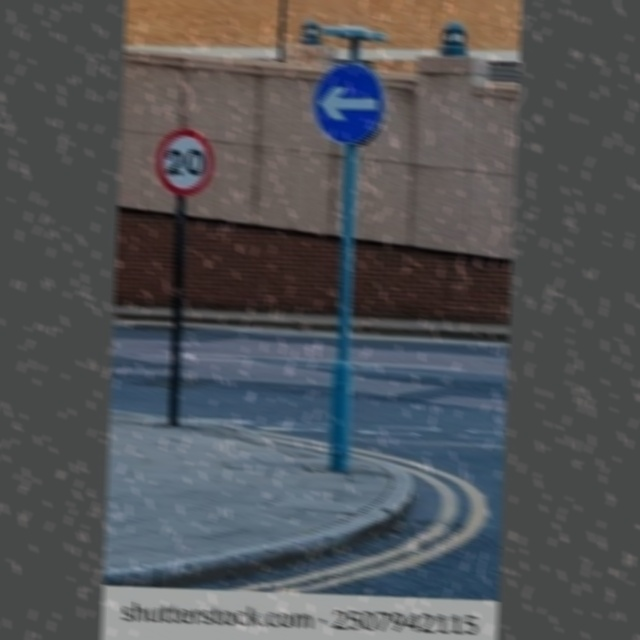Compulsory_Turn_Left: (310, 60, 387, 146)
